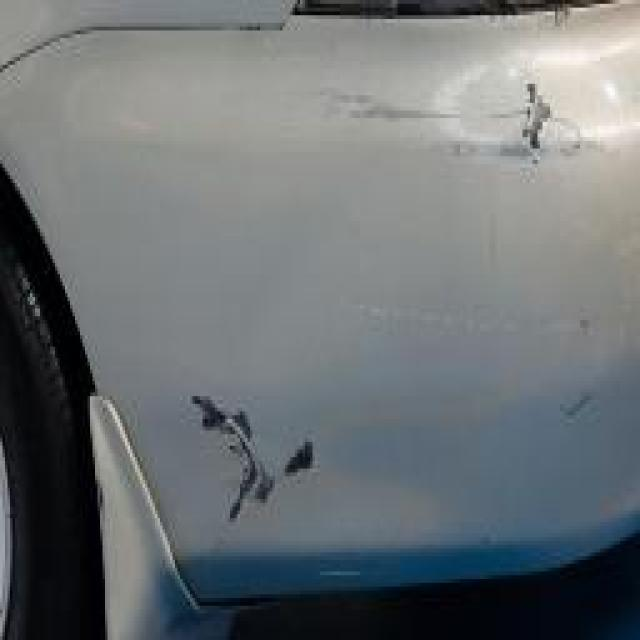Bumper: (128, 38, 640, 579)
